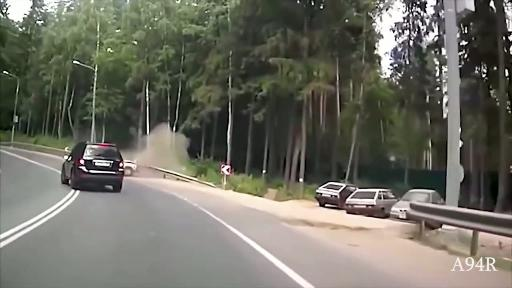Accident-fire-smoke: (27, 94, 191, 205)
CAR: (295, 118, 423, 231)
